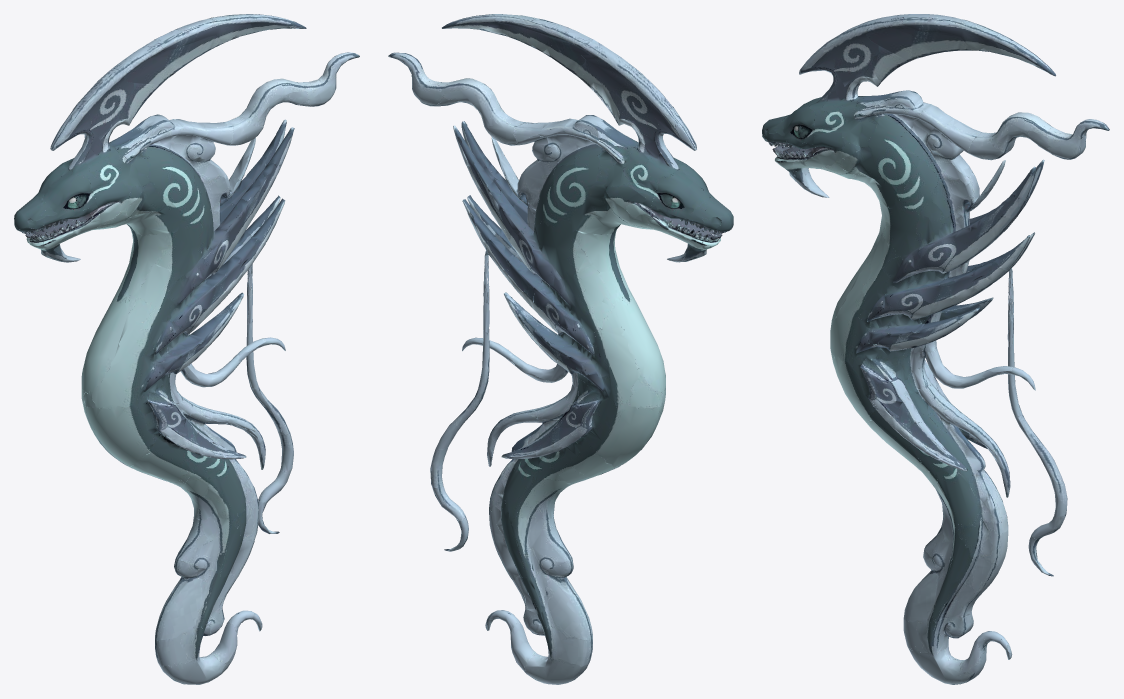
The picture shows the model from 3 angles, left to right: view 1: azimuth 30°, elevation 25°; view 2: azimuth 150°, elevation 25°; view 3: azimuth 330°, elevation 25°; orthographic projection.
Parts seen in each view (by area): view 1: Mesh_0; view 2: Mesh_0; view 3: Mesh_0.
Boxes of the visible parts, x1,y1,x2,y2 form: Mesh_0: (14,14,359,684); Mesh_0: (388,14,733,684); Mesh_0: (762,14,1109,684).
Bounding box in the file's own units: 1.04 × 1.9 × 0.2209.
1 material, 1 textured.
